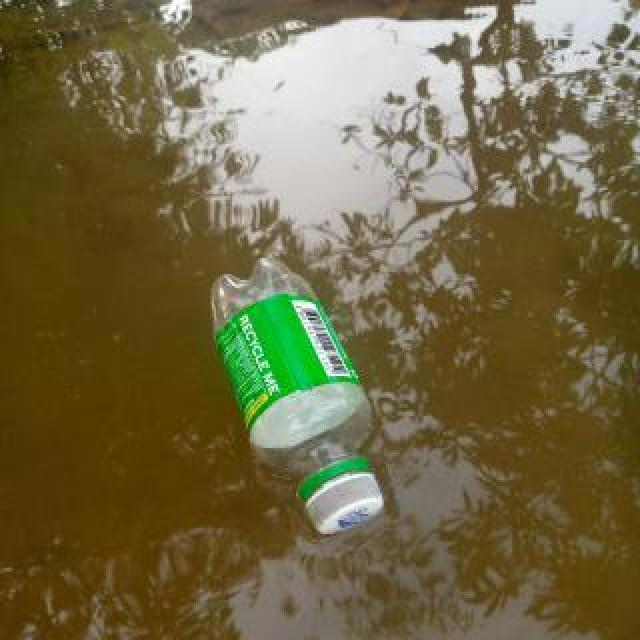bottle: (209, 254, 385, 536)
